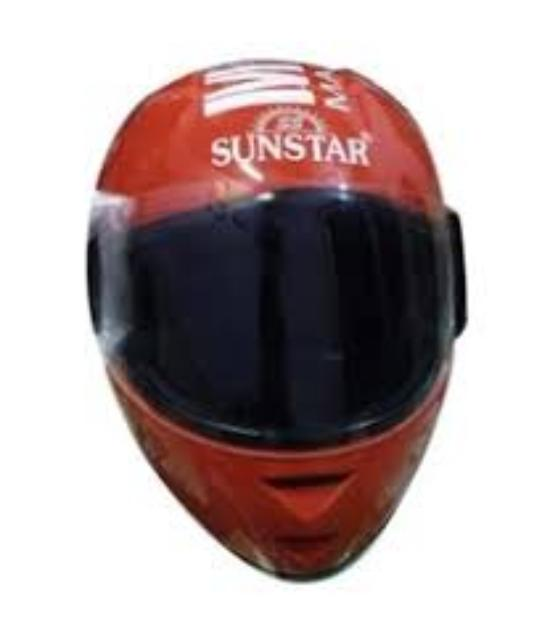helm: (79, 56, 473, 591)
